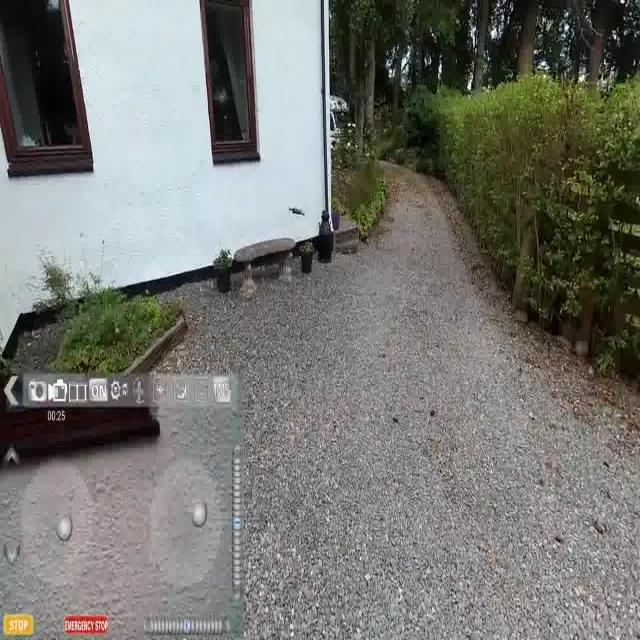drones: (287, 198, 309, 225)
